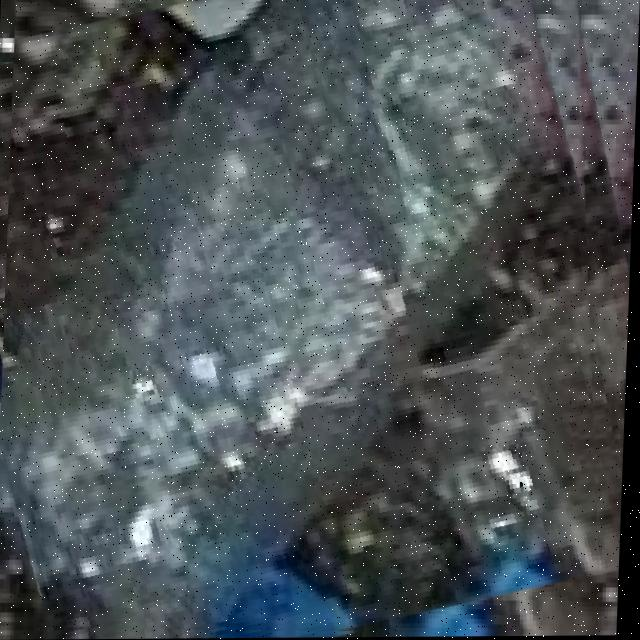litter: (3, 0, 591, 632)
